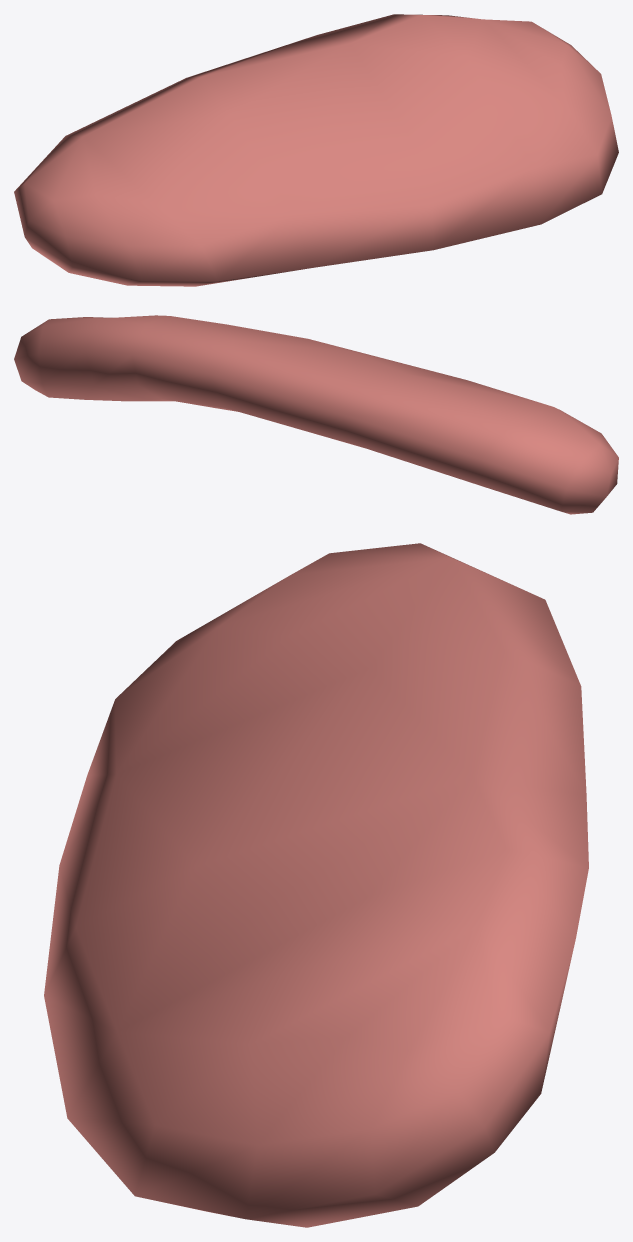
The picture shows the model from 3 angles, top to bottom: view 1: azimuth 30°, elevation 25°; view 2: azimuth 150°, elevation 25°; view 3: azimuth 270°, elevation 25°; orthographic projection. The views are drawn at different scales.
Visible parts, largest first — view 1: ZA_e6b5f2edf111c310; view 2: ZA_e6b5f2edf111c310; view 3: ZA_e6b5f2edf111c310.
Boxes of the visible parts, x1=… form: ZA_e6b5f2edf111c310: x1=14, y1=14, x2=618, y2=286; ZA_e6b5f2edf111c310: x1=14, y1=315, x2=618, y2=514; ZA_e6b5f2edf111c310: x1=44, y1=543, x2=588, y2=1227.
Size of the model in its own units: 0.00374 by 0.000889 by 0.00153.
